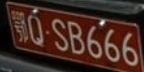Q: (28, 15, 44, 47)
